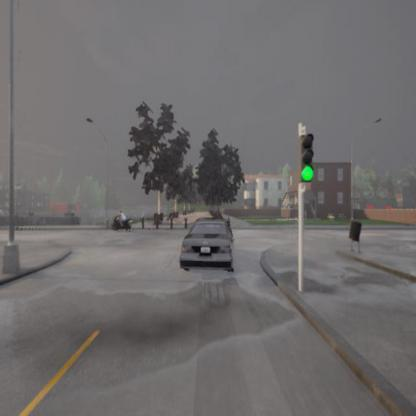motobike: (111, 209, 132, 230)
traffic_light_green: (300, 135, 313, 181)
vehicle: (178, 218, 235, 270)
